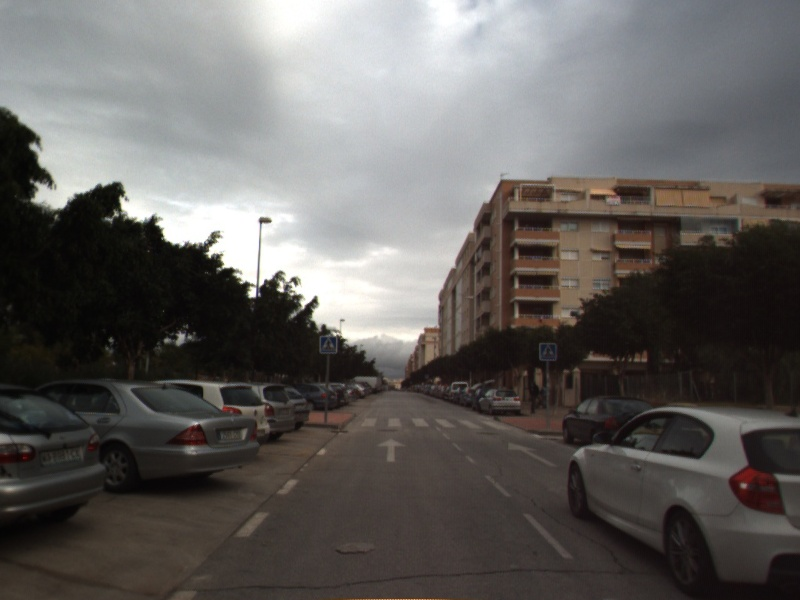STRAIGHT: (506, 440, 561, 469), (375, 436, 408, 464)
